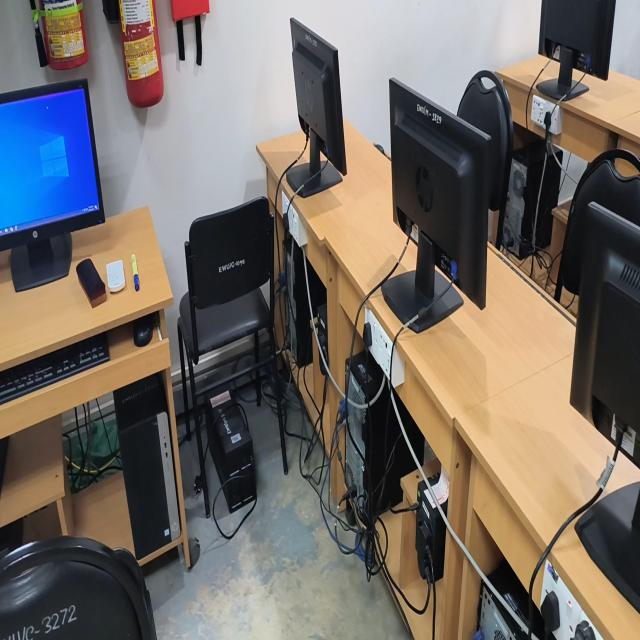Chair: (0, 536, 156, 639), (181, 197, 273, 363), (555, 150, 640, 301), (458, 71, 513, 248)
Cpu: (113, 373, 180, 559), (345, 350, 415, 515), (503, 139, 564, 259), (477, 560, 528, 639), (285, 237, 312, 366), (395, 392, 424, 463), (307, 261, 326, 315)
Fire Extinguisher: (119, 0, 163, 108), (39, 0, 89, 69)
Monitor: (382, 78, 491, 333), (0, 79, 105, 292), (570, 203, 640, 468), (286, 18, 347, 197), (575, 482, 640, 613), (538, 0, 615, 100)
